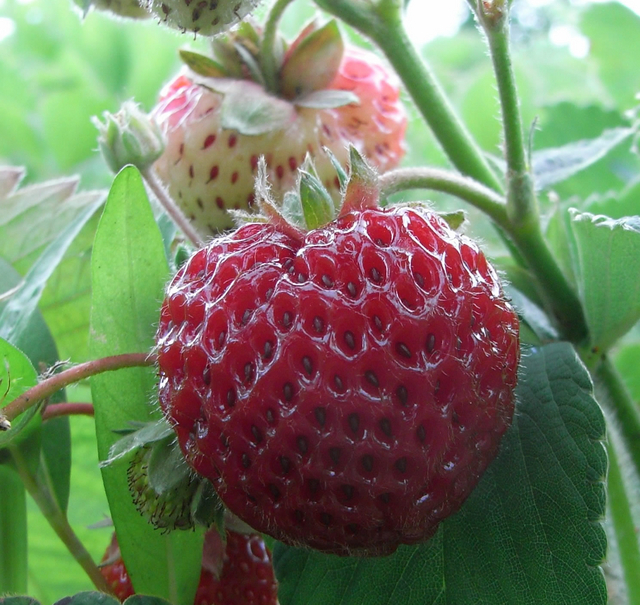ripe: (157, 194, 535, 547), (89, 499, 292, 601)
unripe: (139, 29, 430, 243), (120, 407, 220, 545), (83, 87, 192, 196), (130, 0, 276, 38)
